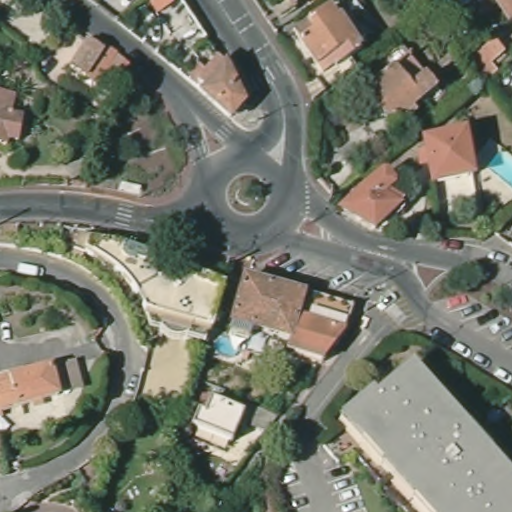pool: (487, 142, 512, 188), (212, 331, 247, 359)
